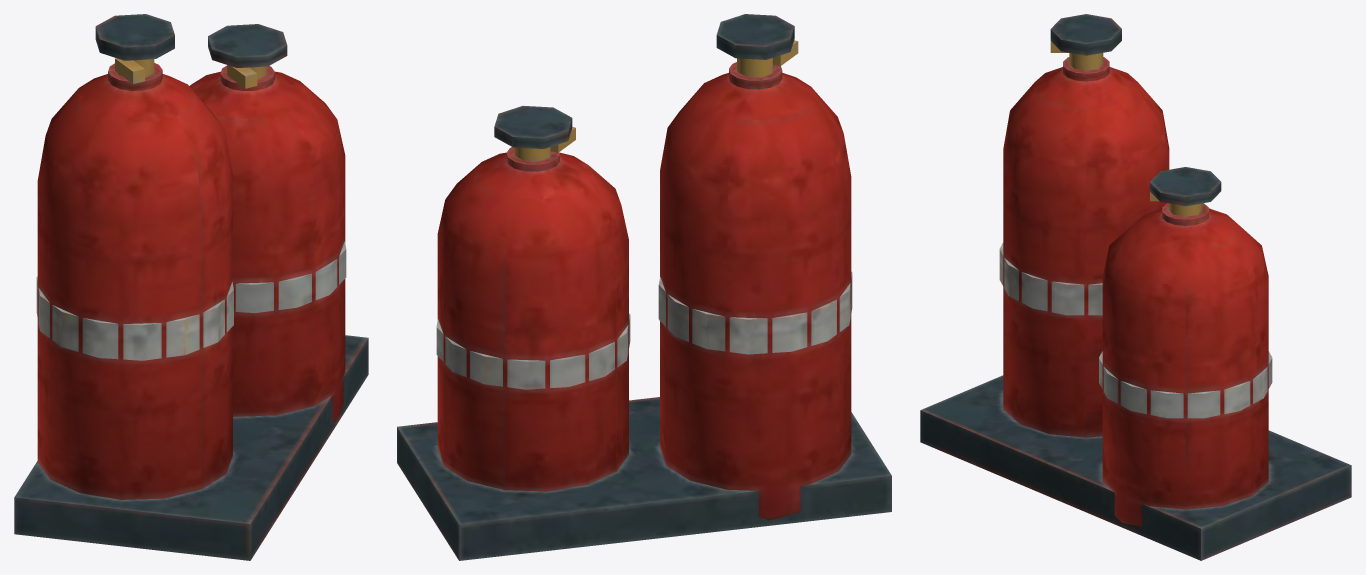
Rendered from hydrogen.glb.
3 renders of one model, left to right at view 1: azimuth 30°, elevation 25°; view 2: azimuth 150°, elevation 25°; view 3: azimuth 270°, elevation 25°, orthographic. The views are drawn at different scales.
Parts seen in each view (by area): view 1: te_res_hydrogen; view 2: te_res_hydrogen; view 3: te_res_hydrogen.
Boxes of the visible parts, x1,y1,x2,y2 form: te_res_hydrogen: (14, 14, 368, 560); te_res_hydrogen: (397, 14, 891, 560); te_res_hydrogen: (920, 14, 1351, 560).
Bounding box in the file's own units: 0.6081 × 0.63 × 0.6081.
1 material, 1 textured.
